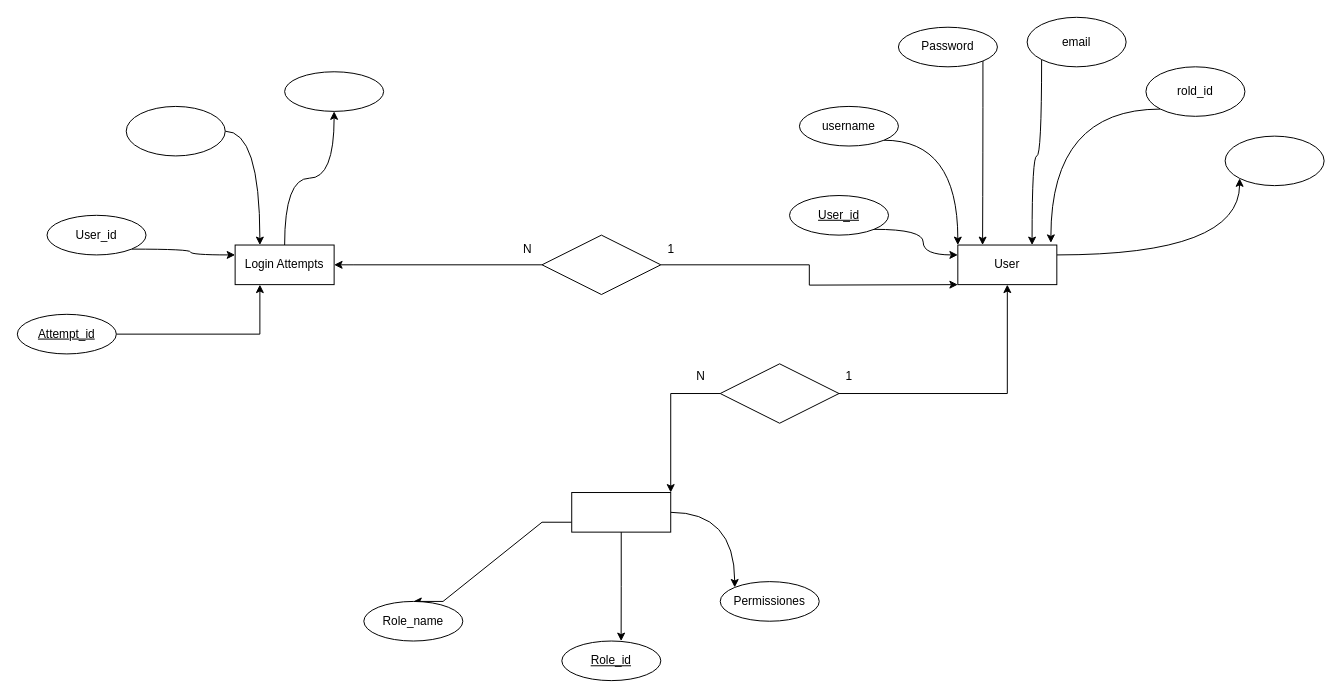
Image size: 1341x698. Some labels were removed from this diagram. Here are the shapes that lost their labels. From the top down, the centre of each, then its label:
the point at 334,91: username_attempt
the point at 175,130: Time_Login
the point at 1274,160: Time_created
the point at 601,264: Log_in
the point at 779,393: grant type
the point at 621,512: Roles
